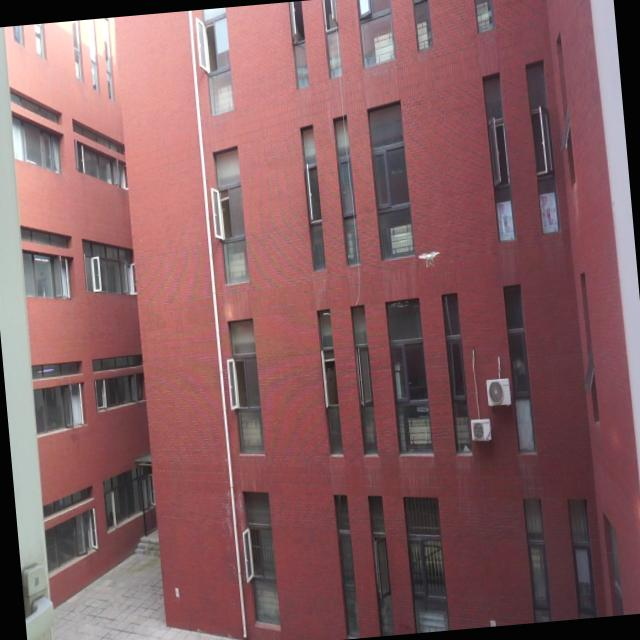drone: (416, 247, 444, 271)
